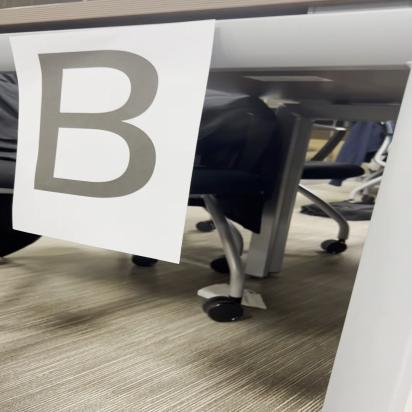seat: (18, 45, 174, 207)
